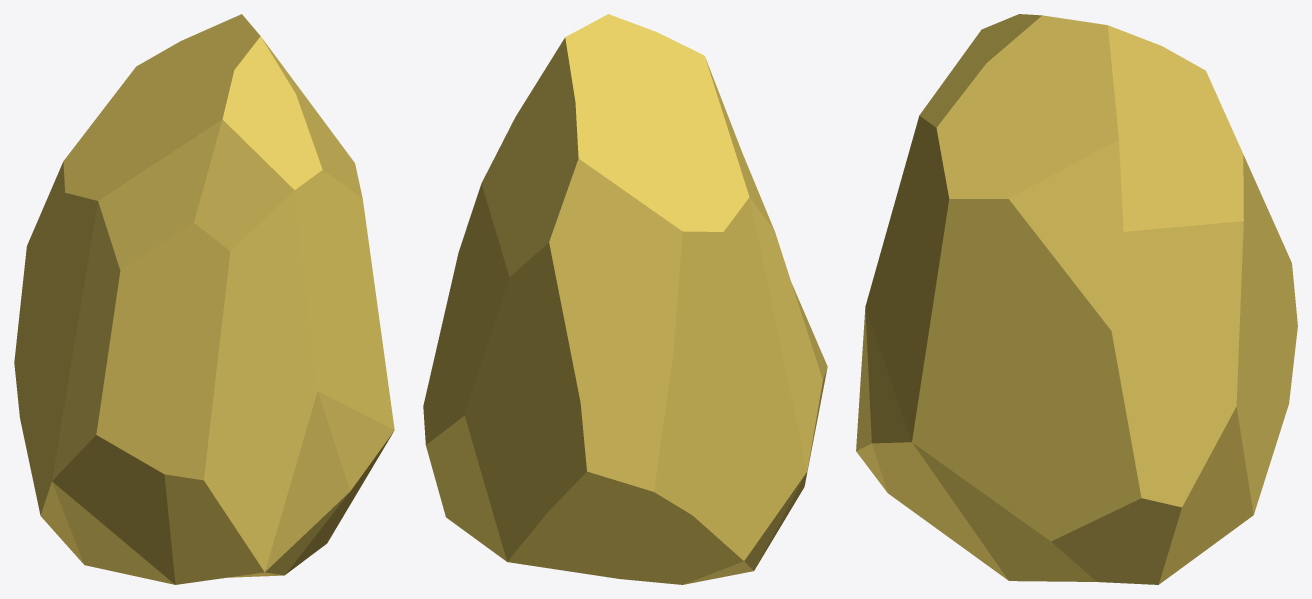
The model's file is Gold.fbx.
The picture shows the model from 3 angles, left to right: view 1: azimuth 30°, elevation 25°; view 2: azimuth 150°, elevation 25°; view 3: azimuth 270°, elevation 25°; orthographic projection. The views are drawn at different scales.
Parts seen in each view (by area): view 1: Cube; view 2: Cube; view 3: Cube.
Boxes of the visible parts, bbox=[...] form: Cube: bbox=[14, 14, 394, 584]; Cube: bbox=[423, 14, 827, 584]; Cube: bbox=[856, 14, 1297, 584].
Size of the model in its own units: 271 by 397 by 287.
